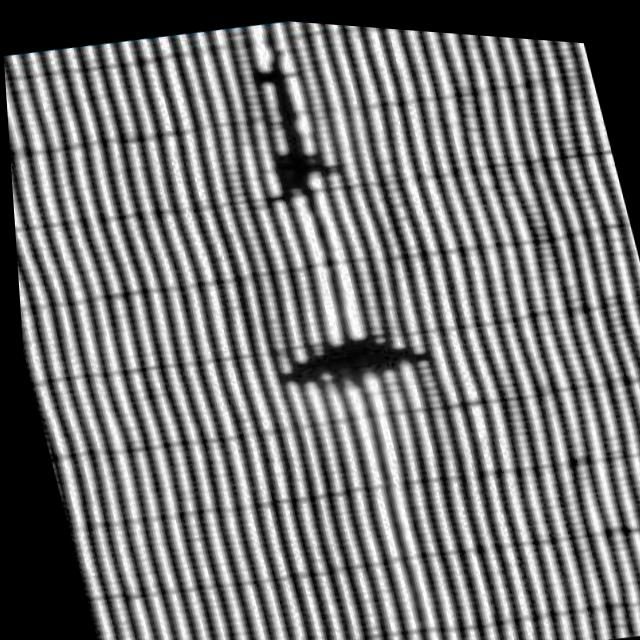Hole: (239, 293, 451, 424)
Stitch: (213, 32, 364, 229)
